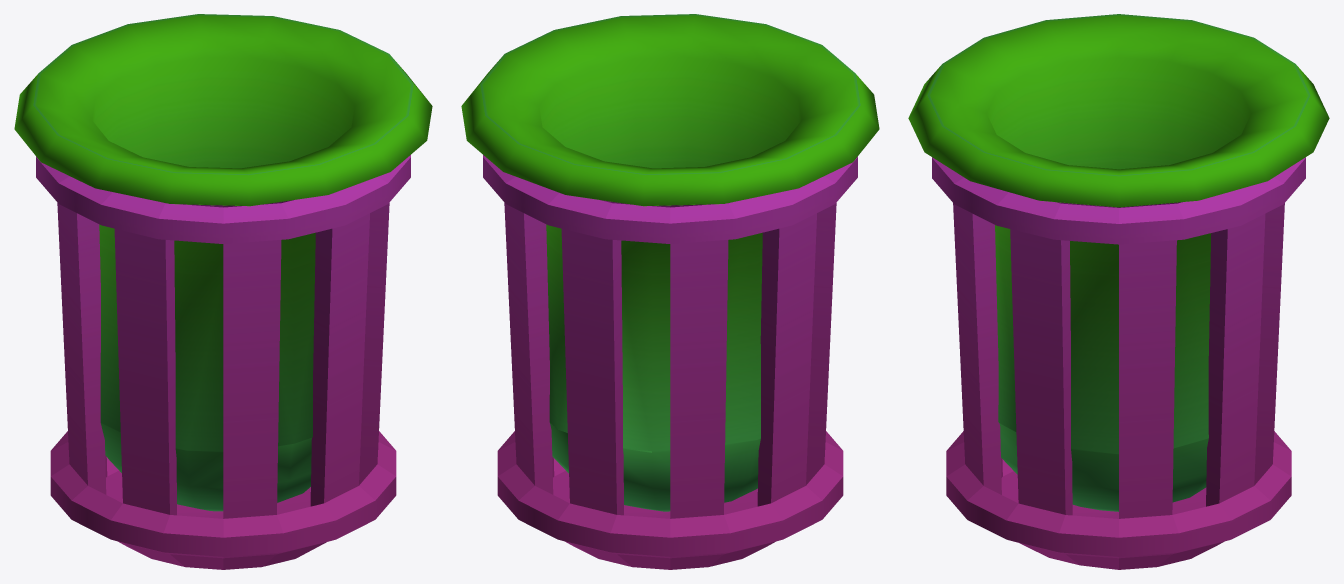
File: TrashCan.FBX
3 views of the same model, side by side, from view 1: azimuth 30°, elevation 25°; view 2: azimuth 150°, elevation 25°; view 3: azimuth 270°, elevation 25° (orthographic).
Parts seen in each view (by area): view 1: Cylinder001, Object001; view 2: Cylinder001, Object001; view 3: Cylinder001, Object001.
Part boxes in pixels (x1,y1,x2,y2): Cylinder001: [36, 155, 410, 569]; Object001: [14, 14, 432, 511]; Cylinder001: [483, 155, 857, 569]; Object001: [461, 14, 879, 511]; Cylinder001: [932, 157, 1305, 569]; Object001: [908, 14, 1329, 511].
Size of the model in its own units: 94.02 by 94.02 by 105.
1 material, 1 textured.
